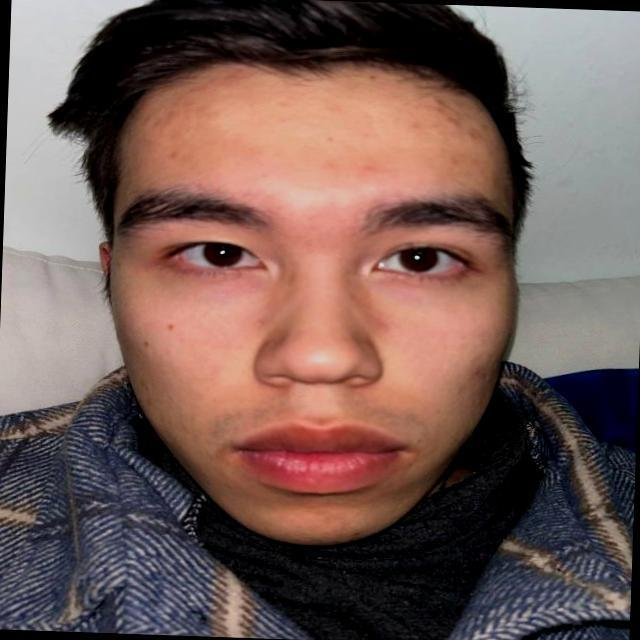nodules: (424, 101, 486, 143), (360, 163, 389, 184), (166, 149, 194, 162)
